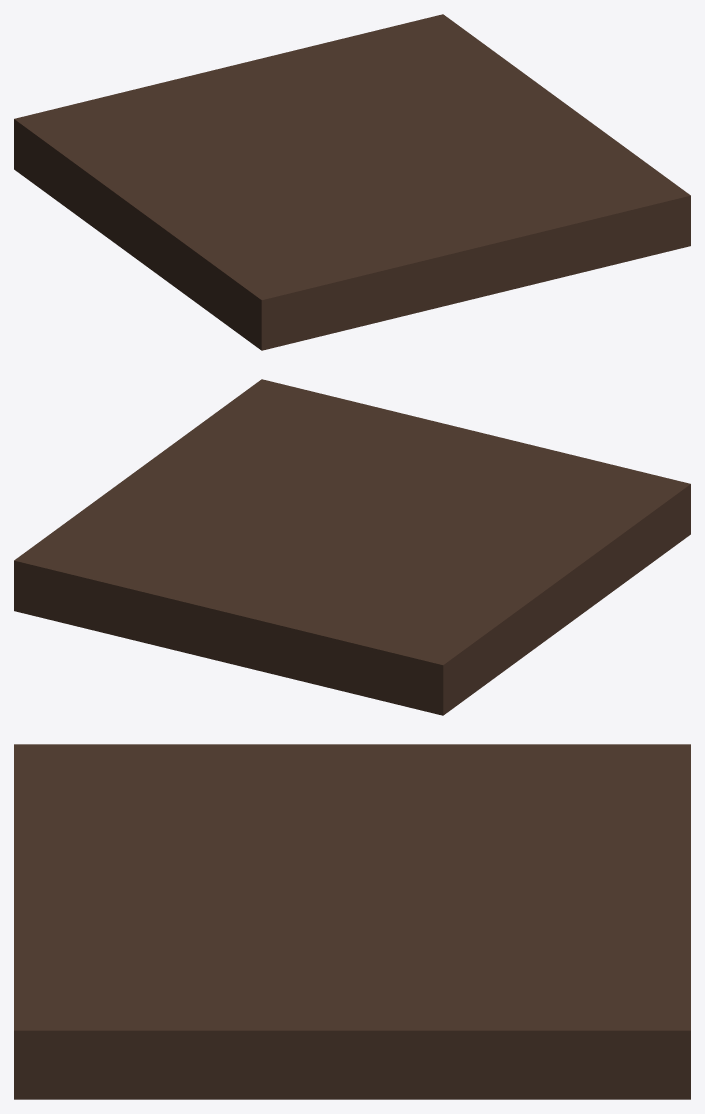
The model's file is S_Ceiling.fbx.
The picture shows the model from 3 angles, top to bottom: view 1: azimuth 30°, elevation 25°; view 2: azimuth 150°, elevation 25°; view 3: azimuth 270°, elevation 25°; orthographic projection. The views are drawn at different scales.
Parts seen in each view (by area): view 1: S_Ceiling; view 2: S_Ceiling; view 3: S_Ceiling.
Boxes of the visible parts, x1,y1,x2,y2 form: S_Ceiling: [14, 14, 690, 350]; S_Ceiling: [14, 379, 690, 715]; S_Ceiling: [14, 744, 690, 1099].
Bounding box in the file's own units: 200 × 22.5 × 200.
